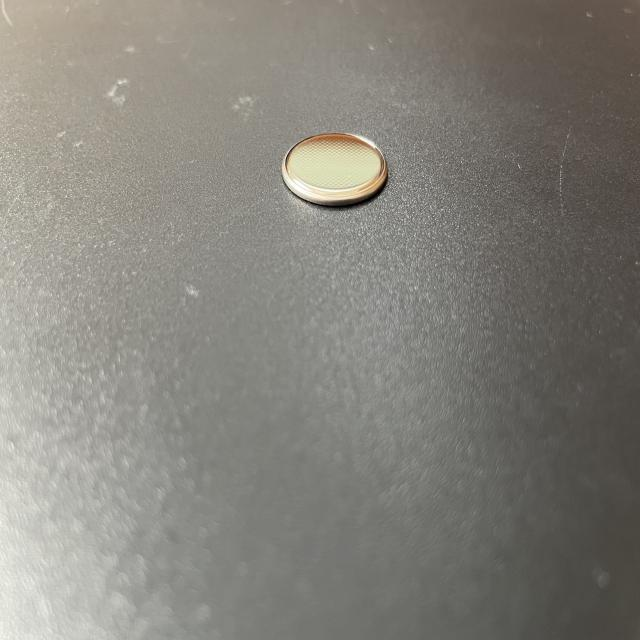COIN: (279, 128, 392, 212)
